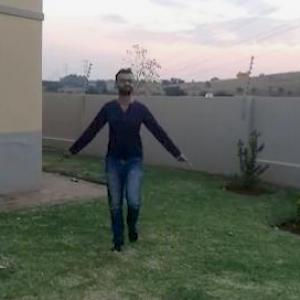land: (80, 80, 178, 218)
